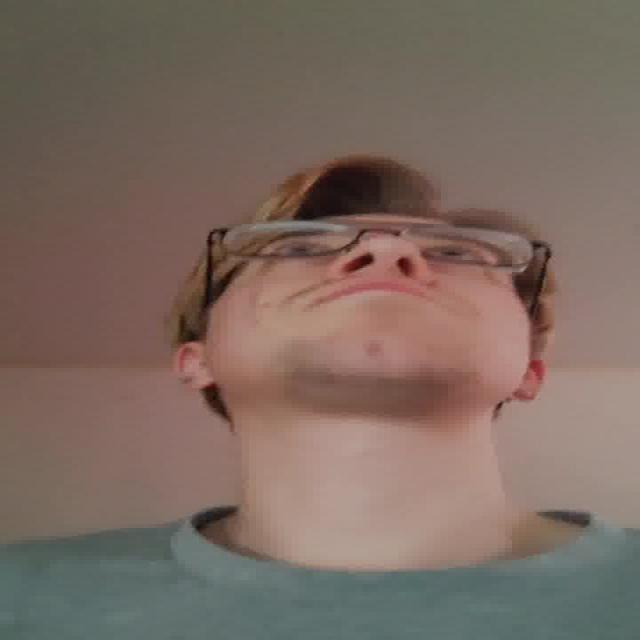earlobe: (174, 342, 218, 390), (512, 354, 552, 406)
